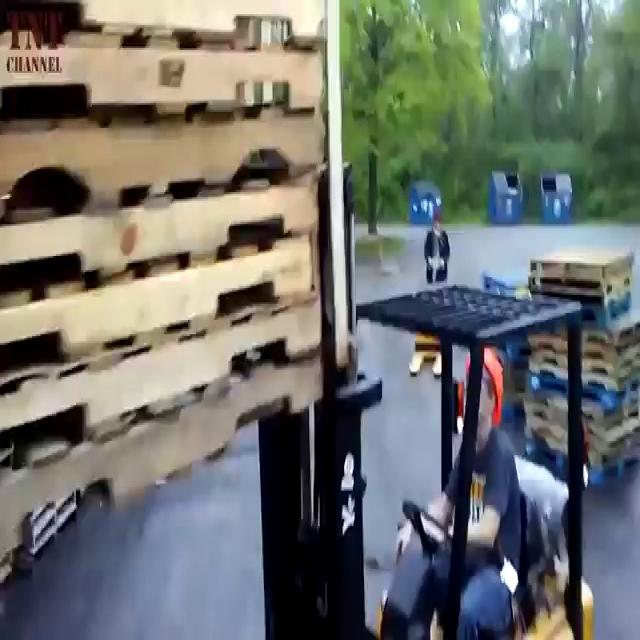Chariot elevateur: (251, 259, 604, 640)
